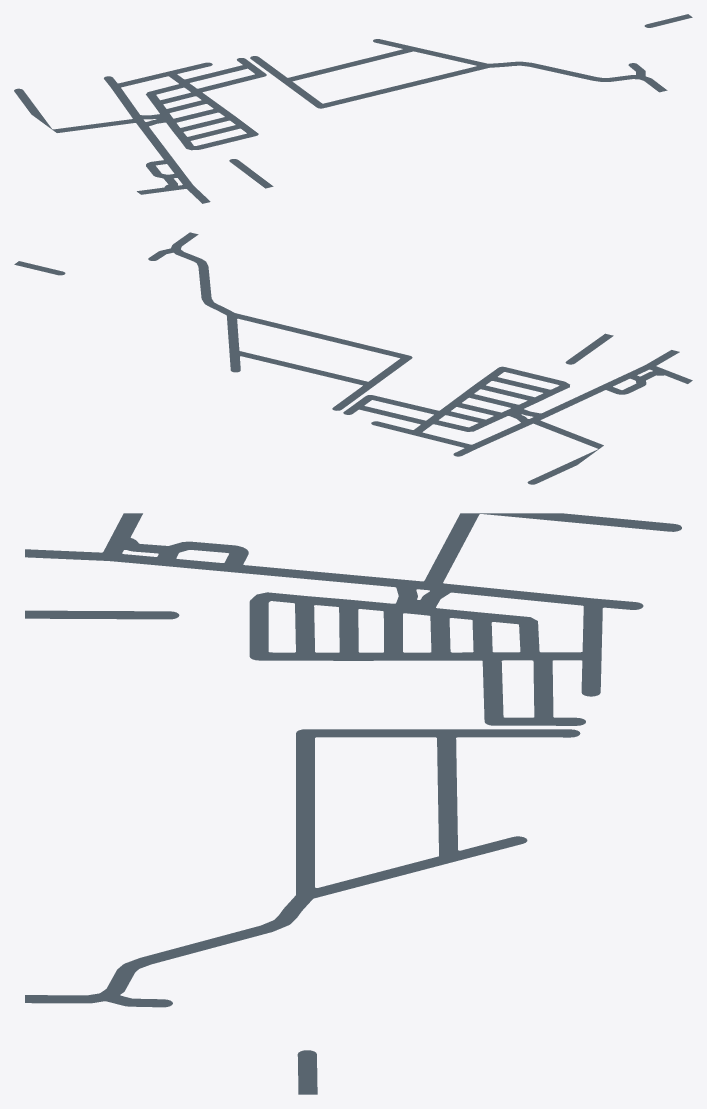
File: SM_MPR_Env_Far_N_Roads.fbx
3 renders of one model, top to bottom at view 1: azimuth 30°, elevation 25°; view 2: azimuth 150°, elevation 25°; view 3: azimuth 270°, elevation 25°, orthographic. The views are drawn at different scales.
Visible parts, largest first — view 1: SM_MPR_Env_Far_N_Roads; view 2: SM_MPR_Env_Far_N_Roads; view 3: SM_MPR_Env_Far_N_Roads.
Boxes of the visible parts, left/top/right/bottom form: SM_MPR_Env_Far_N_Roads: left=14, top=14, right=692, bottom=203; SM_MPR_Env_Far_N_Roads: left=14, top=232, right=692, bottom=484; SM_MPR_Env_Far_N_Roads: left=25, top=513, right=681, bottom=1094.
Bounding box in the file's own units: 57500 × 27473 × 0.
